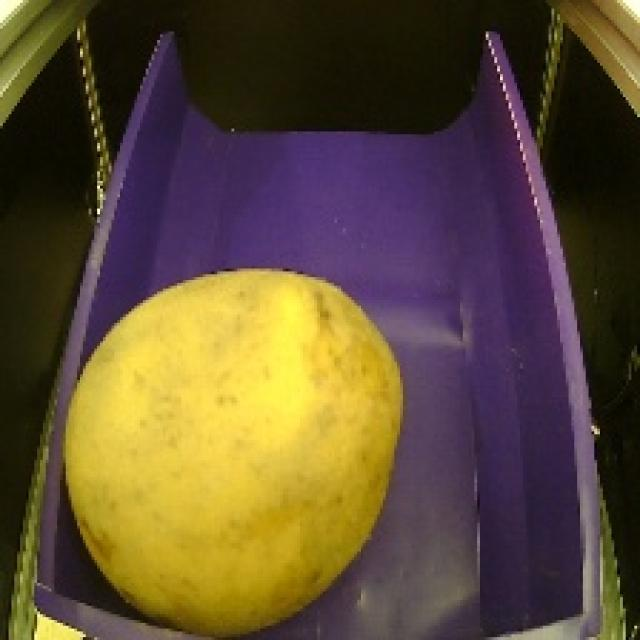full_potato: (46, 251, 411, 640)
